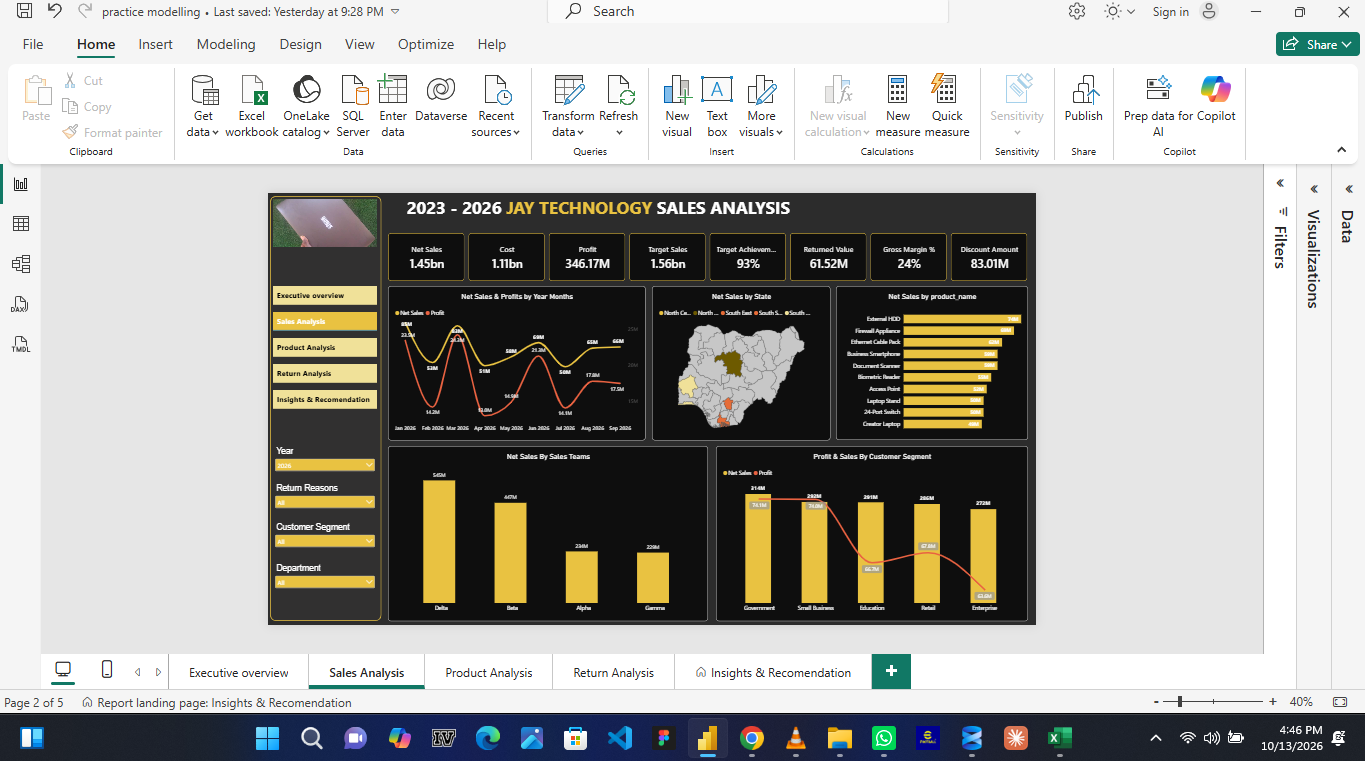

Layout of this report page (visuals, bound fields, positions):
{"tool":"powerbi","page":{"name":"Sales Analysis","canvas":[1920,1080],"ordinal":1},"visuals":[{"type":"shape","box":[4.3,8.6,278.6,1062.7],"z":0},{"type":"textbox","box":[300.2,8.6,1051.9,60.5],"z":1000},{"type":"cardVisual","fields":{"Data":["measure.Net Sales","measure.Cost","measure.Gross Profit","measure.Target Sales","measure.Target Achievement %","measure.Returned Value","measure.Gross Margin %","measure.Discount Amount"]},"box":[300,100,1600,120],"z":2000},{"type":"lineChart","title":"Net Sales & Profits by Year Months","fields":{"Y":["measure.Net Sales"],"Y2":["measure.Profit"],"Category":["dim_date.year_month.Variation.Date Hierarchy.Year","dim_date.year_month.Variation.Date Hierarchy.Month"]},"box":[300,232,644,386],"z":3000},{"type":"slicer","fields":{"Values":["dim_date.year"]},"box":[12.5,632.5,260,75],"z":4000},{"type":"clusteredBarChart","fields":{"Y":["measure.Net Sales"],"Category":["dim_product.product_name"]},"box":[1420,232.5,480,385],"z":5000},{"type":"shapeMap","title":"Net Sales by State","fields":{"Category":["dim_customer.state"],"Value":["measure.Net Sales"],"Series":["dim_customer.territory"]},"box":[960,232,446,386],"z":6000},{"type":"columnChart","title":"Net Sales By Sales Teams","fields":{"Y":["measure.Net Sales"],"Category":["dim_sales_reps.sales_team"]},"box":[300,632.5,800,437.5],"z":7000},{"type":"slicer","fields":{"Values":["fact_returns.return_reason"]},"box":[12.5,725,260,75],"z":8000},{"type":"slicer","fields":{"Values":["dim_customer.customer_segments"]},"box":[12.5,822.5,260,72.5],"z":9000},{"type":"slicer","fields":{"Values":["dim_product.department"]},"box":[12.5,925,260,72.5],"z":10000},{"type":"pageNavigator","box":[12.5,232.5,260,307.5],"z":11000},{"type":"image","box":[12.5,15,260,120],"z":12000},{"type":"lineClusteredColumnComboChart","title":"Profit & Sales By Customer Segment","fields":{"Category":["dim_customer.customer_segments"],"Y":["measure.Net Sales"],"Y2":["measure.Profit"]},"box":[1120,632.5,780,437.5],"z":13000}]}

Visuals, with their boxes on the page's 1920x1080 design canvas (x1, y1, x2, y2). These are canvas units, not pixel positions in the 1365x761 screenshot, which may show the page scaled, cropped or inside an application window:
shape: pyautogui.locateOnScreen(4, 9, 283, 1071)
textbox: pyautogui.locateOnScreen(300, 9, 1352, 69)
cardVisual - measure.Net Sales x measure.Cost: pyautogui.locateOnScreen(300, 100, 1900, 220)
"Net Sales & Profits by Year Months" lineChart: pyautogui.locateOnScreen(300, 232, 944, 618)
slicer - dim_date.year: pyautogui.locateOnScreen(12, 632, 272, 708)
clusteredBarChart - measure.Net Sales x dim_product.product_name: pyautogui.locateOnScreen(1420, 232, 1900, 618)
"Net Sales by State" shapeMap: pyautogui.locateOnScreen(960, 232, 1406, 618)
"Net Sales By Sales Teams" columnChart: pyautogui.locateOnScreen(300, 632, 1100, 1070)
slicer - fact_returns.return_reason: pyautogui.locateOnScreen(12, 725, 272, 800)
slicer - dim_customer.customer_segments: pyautogui.locateOnScreen(12, 822, 272, 895)
slicer - dim_product.department: pyautogui.locateOnScreen(12, 925, 272, 998)
pageNavigator: pyautogui.locateOnScreen(12, 232, 272, 540)
image: pyautogui.locateOnScreen(12, 15, 272, 135)
"Profit & Sales By Customer Segment" lineClusteredColumnComboChart: pyautogui.locateOnScreen(1120, 632, 1900, 1070)
